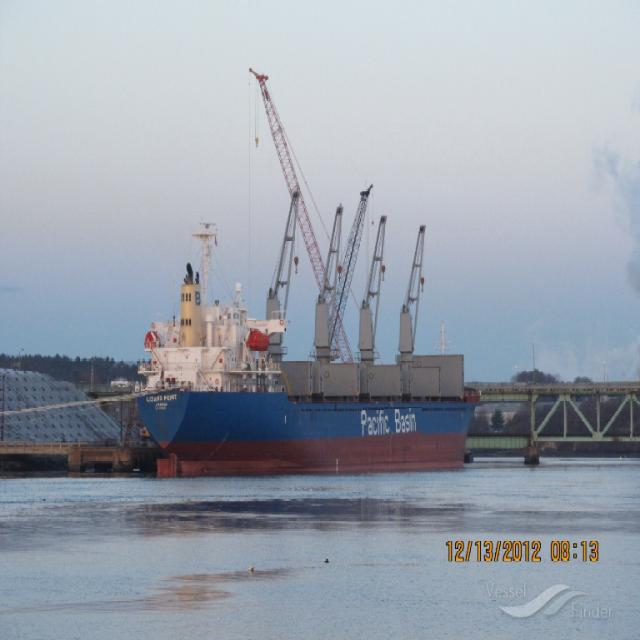OCR: (350, 407, 422, 443), (138, 387, 180, 424)
